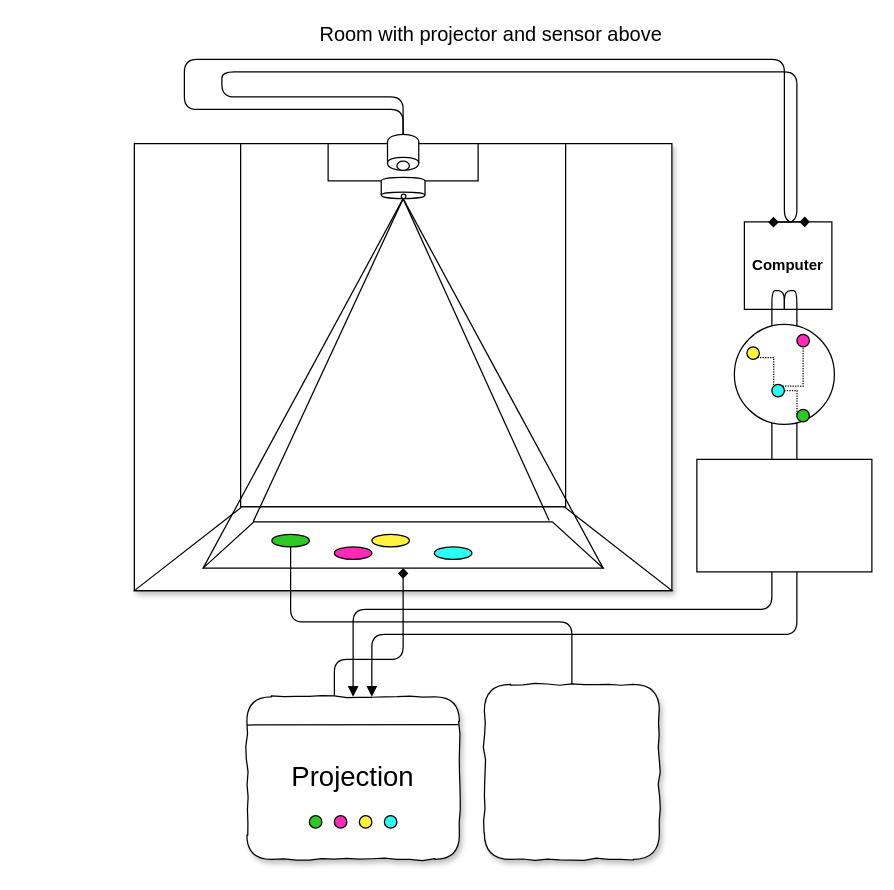
Some shapes in this 894 by 890 pixel diagram are drawn without their labels. Here are the shapes that lost their labels. From the top down, the centre of each, then its label:
pixel 784 515: - Computer Vision - Graphics output - I/O - Networking
pixel 572 773: Colour coded objects
